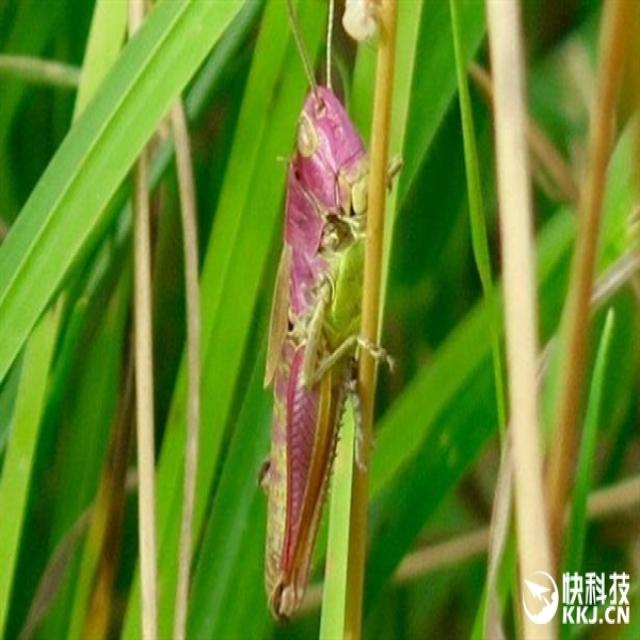ZhaMeng: (252, 55, 383, 618)
